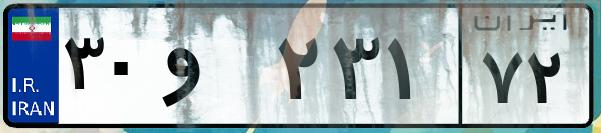0: (110, 28, 158, 98)
1: (385, 28, 445, 110)
2: (270, 28, 330, 110), (525, 38, 570, 115)
3: (330, 28, 385, 110), (57, 26, 110, 100)
7: (475, 38, 525, 113)
و: (158, 20, 270, 120)
